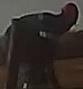helmet: (61, 2, 78, 21)
vest: (3, 12, 61, 43)
